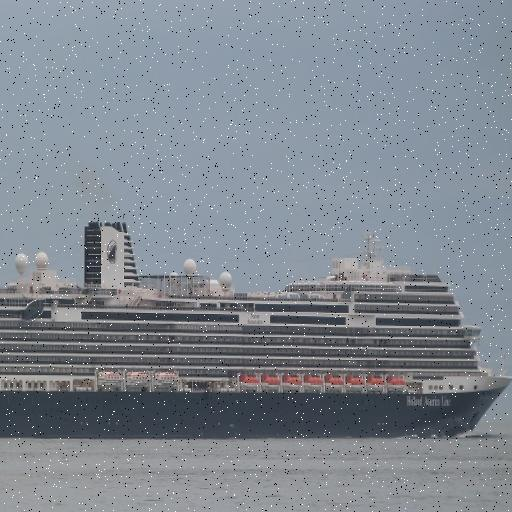cruises: (1, 213, 512, 445)
